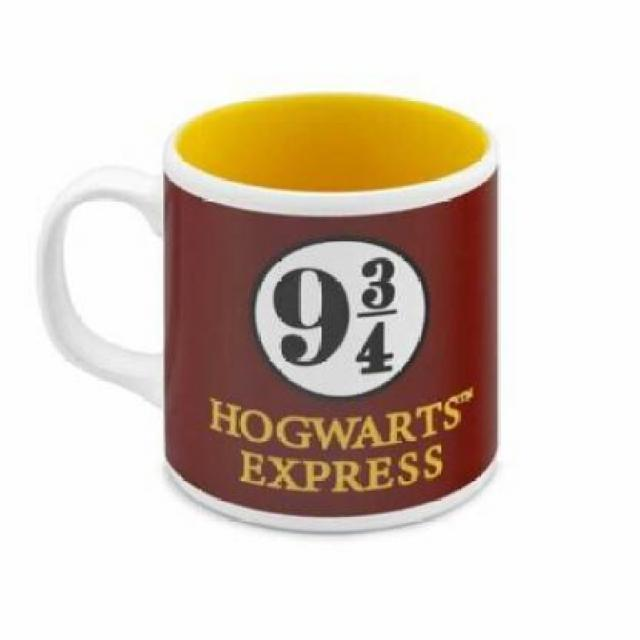taza: (31, 89, 504, 545)
